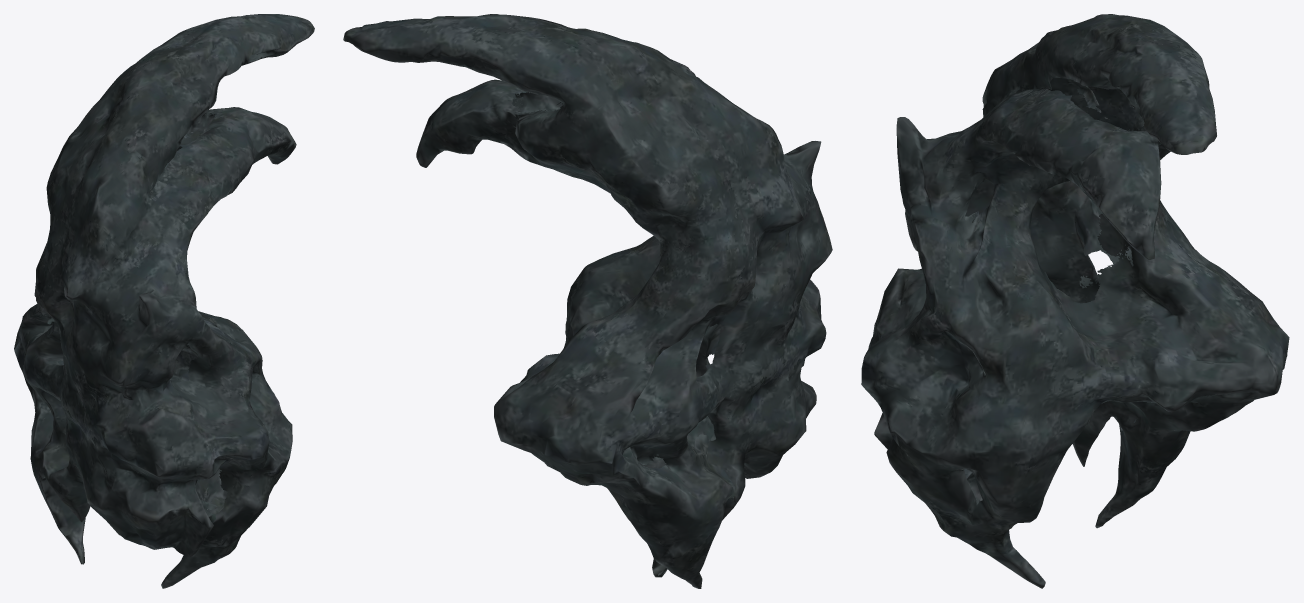
The picture shows the model from 3 angles, left to right: view 1: azimuth 30°, elevation 25°; view 2: azimuth 150°, elevation 25°; view 3: azimuth 270°, elevation 25°; orthographic projection. The views are drawn at different scales.
Parts seen in each view (by area): view 1: SM_US_VolcRock_02_v1_LOD0; view 2: SM_US_VolcRock_02_v1_LOD0; view 3: SM_US_VolcRock_02_v1_LOD0.
Part boxes in pixels (<box>): SM_US_VolcRock_02_v1_LOD0: <box>14,14,314,588</box>; SM_US_VolcRock_02_v1_LOD0: <box>343,14,832,588</box>; SM_US_VolcRock_02_v1_LOD0: <box>861,14,1289,588</box>.
Bounding box in the file's own units: 31.1 × 46.05 × 30.04.
Materials: 1 (1 with a texture image).
